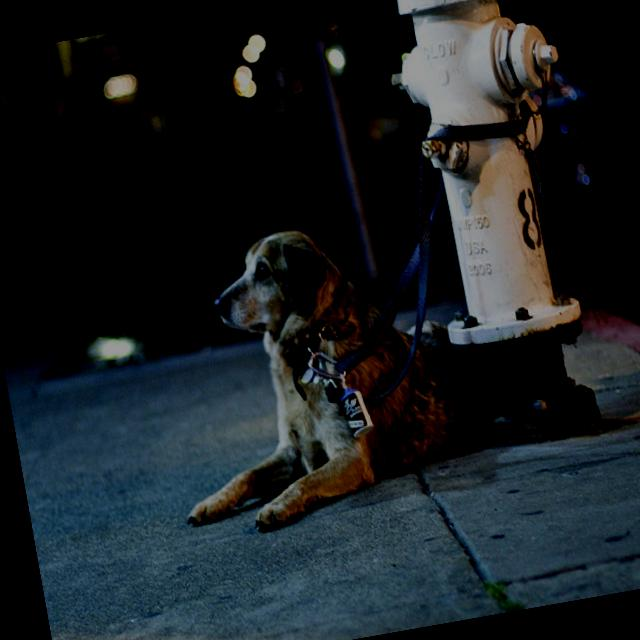Vehicle: (391, 54, 631, 278), (337, 46, 430, 214)
